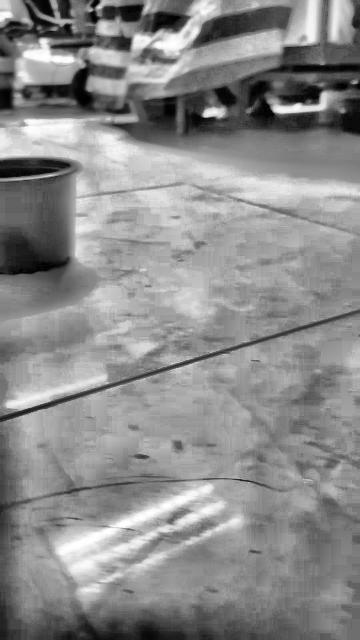pot: (0, 157, 79, 274)
